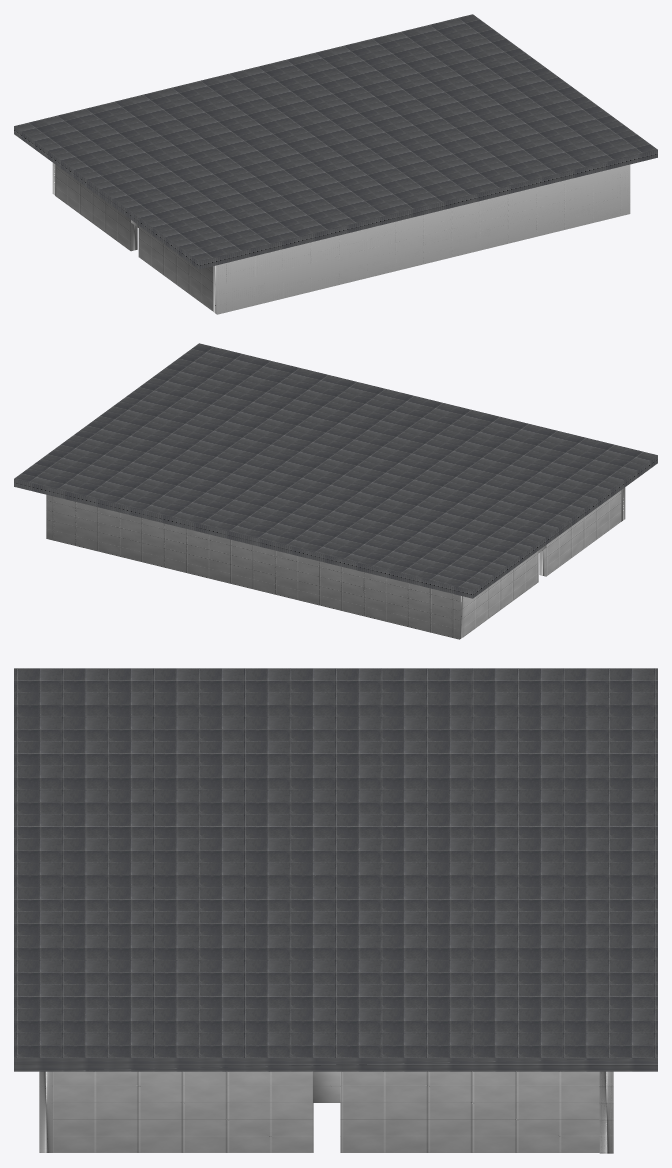
The model's file is paretsHabitacio2.fbx.
The picture shows the model from 3 angles, top to bottom: view 1: azimuth 30°, elevation 25°; view 2: azimuth 150°, elevation 25°; view 3: azimuth 270°, elevation 25°; orthographic projection. The views are drawn at different scales.
Parts seen in each view (by area): view 1: Cube_008, Cube_002, Cube_004, Cube_005; view 2: Cube_008, Cube_003, Cube_005, Cube_004; view 3: Cube_008, Cube_010, Cube_011, Cube_003, Cube_002, Cube_001.
Boxes of the visible parts, x1,y1,x2,y2 form: Cube_008: (14, 14, 657, 269); Cube_002: (213, 164, 630, 314); Cube_004: (55, 164, 137, 251); Cube_005: (138, 226, 213, 311); Cube_008: (14, 343, 657, 598); Cube_003: (46, 494, 462, 639); Cube_005: (539, 490, 621, 576); Cube_004: (462, 551, 538, 637); Cube_008: (14, 668, 657, 1071); Cube_010: (53, 1071, 313, 1152); Cube_011: (340, 1071, 599, 1152); Cube_003: (599, 1071, 613, 1153); Cube_002: (39, 1071, 52, 1152); Cube_001: (313, 1071, 340, 1102).
Size of the model in its own units: 33.31 by 4.48 by 23.28.
